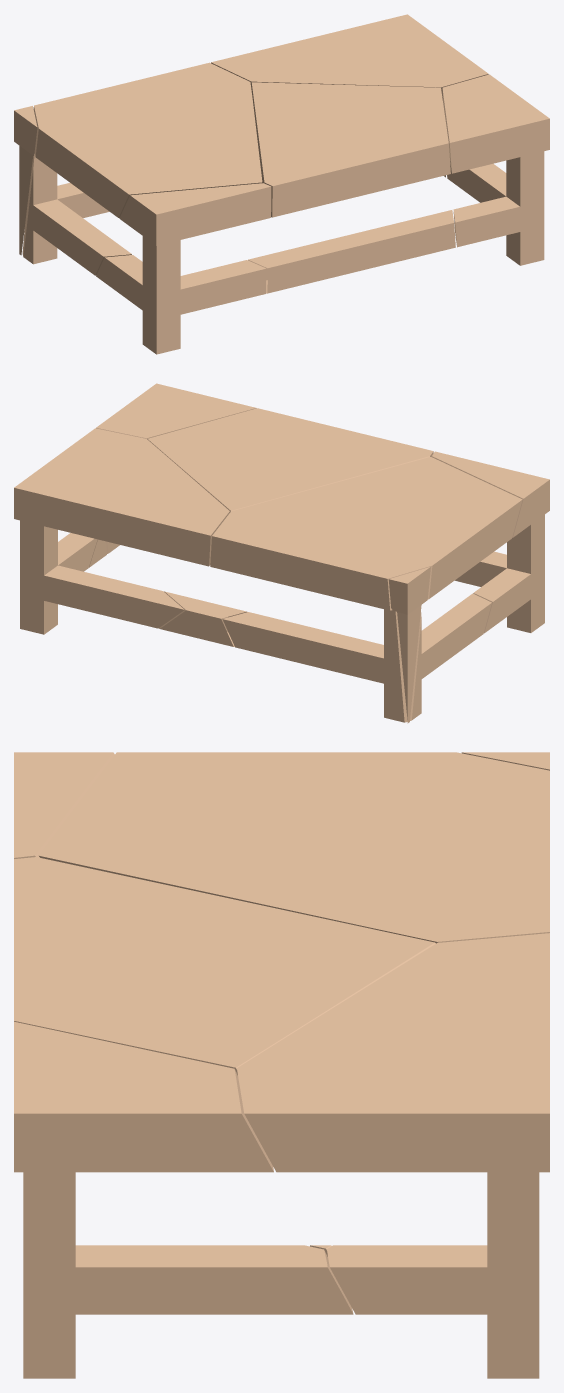
File: CoffeeTable_Broken.fbx
The picture shows the model from 3 angles, top to bottom: view 1: azimuth 30°, elevation 25°; view 2: azimuth 150°, elevation 25°; view 3: azimuth 270°, elevation 25°; orthographic projection. The views are drawn at different scales.
Visible parts, largest first — view 1: Cube.001_cell.011, Cube.001_cell.007, Cube.001_cell.004, Cube.001_cell.013, Cube.001_cell.009, Cube.001_cell.001, Cube.001_cell.006, Cube.001_cell.003, Cube.001_cell.005, Cube.001_cell.010, Cube.001_cell.002; view 2: Cube.001_cell.011, Cube.001_cell.004, Cube.001_cell.007, Cube.001_cell.003, Cube.001_cell.012, Cube.001_cell.013, Cube.001_cell.001, Cube.001_cell.005, Cube.001_cell, Cube.001_cell.010, Cube.001_cell.002; view 3: Cube.001_cell.011, Cube.001_cell.004, Cube.001_cell.007, Cube.001_cell.001, Cube.001_cell.009, Cube.001_cell.012, Cube.001_cell.005, Cube.001_cell.002.
Part boxes in pixels (<box>): Cube.001_cell.011: <box>33,62,262,217</box>; Cube.001_cell.007: <box>250,82,450,217</box>; Cube.001_cell.004: <box>211,14,488,100</box>; Cube.001_cell.013: <box>96,236,266,354</box>; Cube.001_cell.009: <box>447,151,544,265</box>; Cube.001_cell.001: <box>442,74,549,173</box>; Cube.001_cell.006: <box>248,210,455,293</box>; Cube.001_cell.003: <box>22,153,131,275</box>; Cube.001_cell.005: <box>119,183,271,245</box>; Cube.001_cell.010: <box>19,146,32,255</box>; Cube.001_cell.002: <box>14,106,37,155</box>; Cube.001_cell.011: <box>210,457,522,610</box>; Cube.001_cell.004: <box>14,428,229,566</box>; Cube.001_cell.007: <box>147,408,433,512</box>; Cube.001_cell.003: <box>222,593,491,722</box>; Cube.001_cell.012: <box>20,520,184,634</box>; Cube.001_cell.013: <box>455,514,544,633</box>; Cube.001_cell.001: <box>96,383,256,438</box>; Cube.001_cell.005: <box>432,451,549,537</box>; Cube.001_cell: <box>159,591,246,646</box>; Cube.001_cell.010: <box>397,605,421,723</box>; Cube.001_cell.002: <box>388,566,430,614</box>; Cube.001_cell.011: <box>38,752,549,943</box>; Cube.001_cell.004: <box>237,933,549,1172</box>; Cube.001_cell.007: <box>14,857,435,1075</box>; Cube.001_cell.001: <box>14,1021,273,1172</box>; Cube.001_cell.009: <box>23,1172,353,1378</box>; Cube.001_cell.012: <box>327,1172,539,1378</box>; Cube.001_cell.005: <box>14,752,114,858</box>; Cube.001_cell.002: <box>461,752,549,770</box>.
Bounding box in the file's own units: 208 × 332 × 115.
